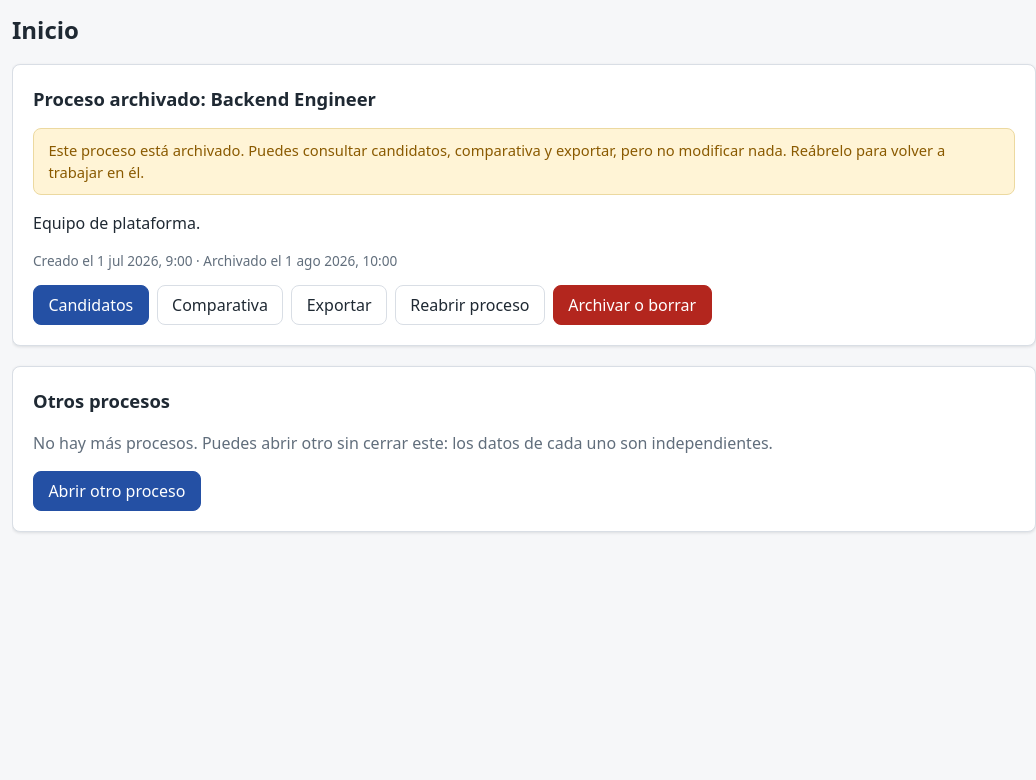
HomePage — varios procesos a la vez › un proceso archivado se anuncia como solo lectura y ofrece reabrir
The width and height of the screenshot is (1036, 780).
Expected: the heading "Proceso archivado: Backend Engineer" is shown, [33,86,376,111]
Expected: the text "no modificar nada" is shown, [48,140,945,182]
Click the button "Reabrir proceso" at (470, 305), box [395,285,545,325]
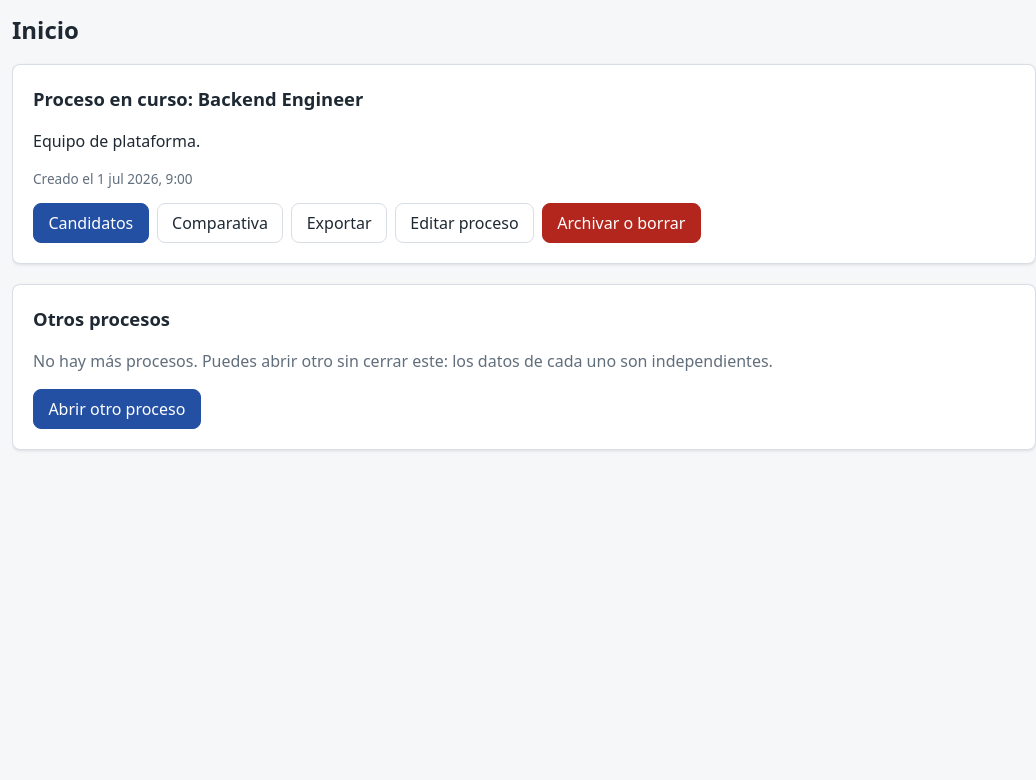
Result: the heading "Proceso en curso: Backend Engineer" is shown at [33,86,363,111]
